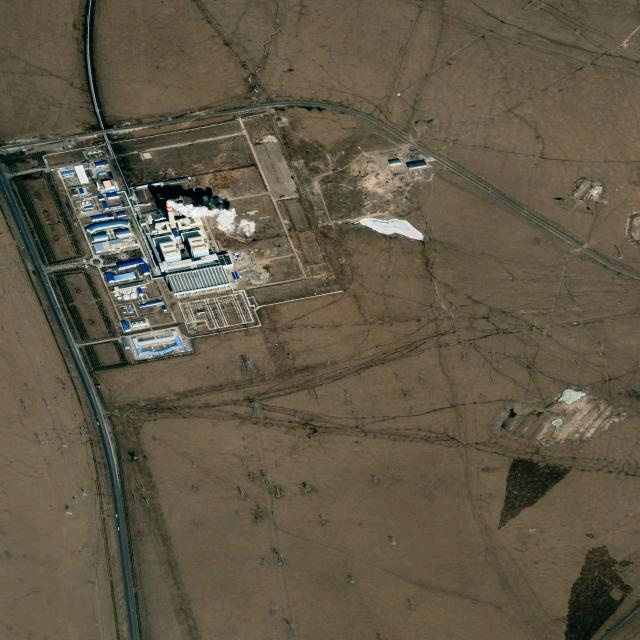coal_fired_power_plant: (145, 186, 235, 299)
